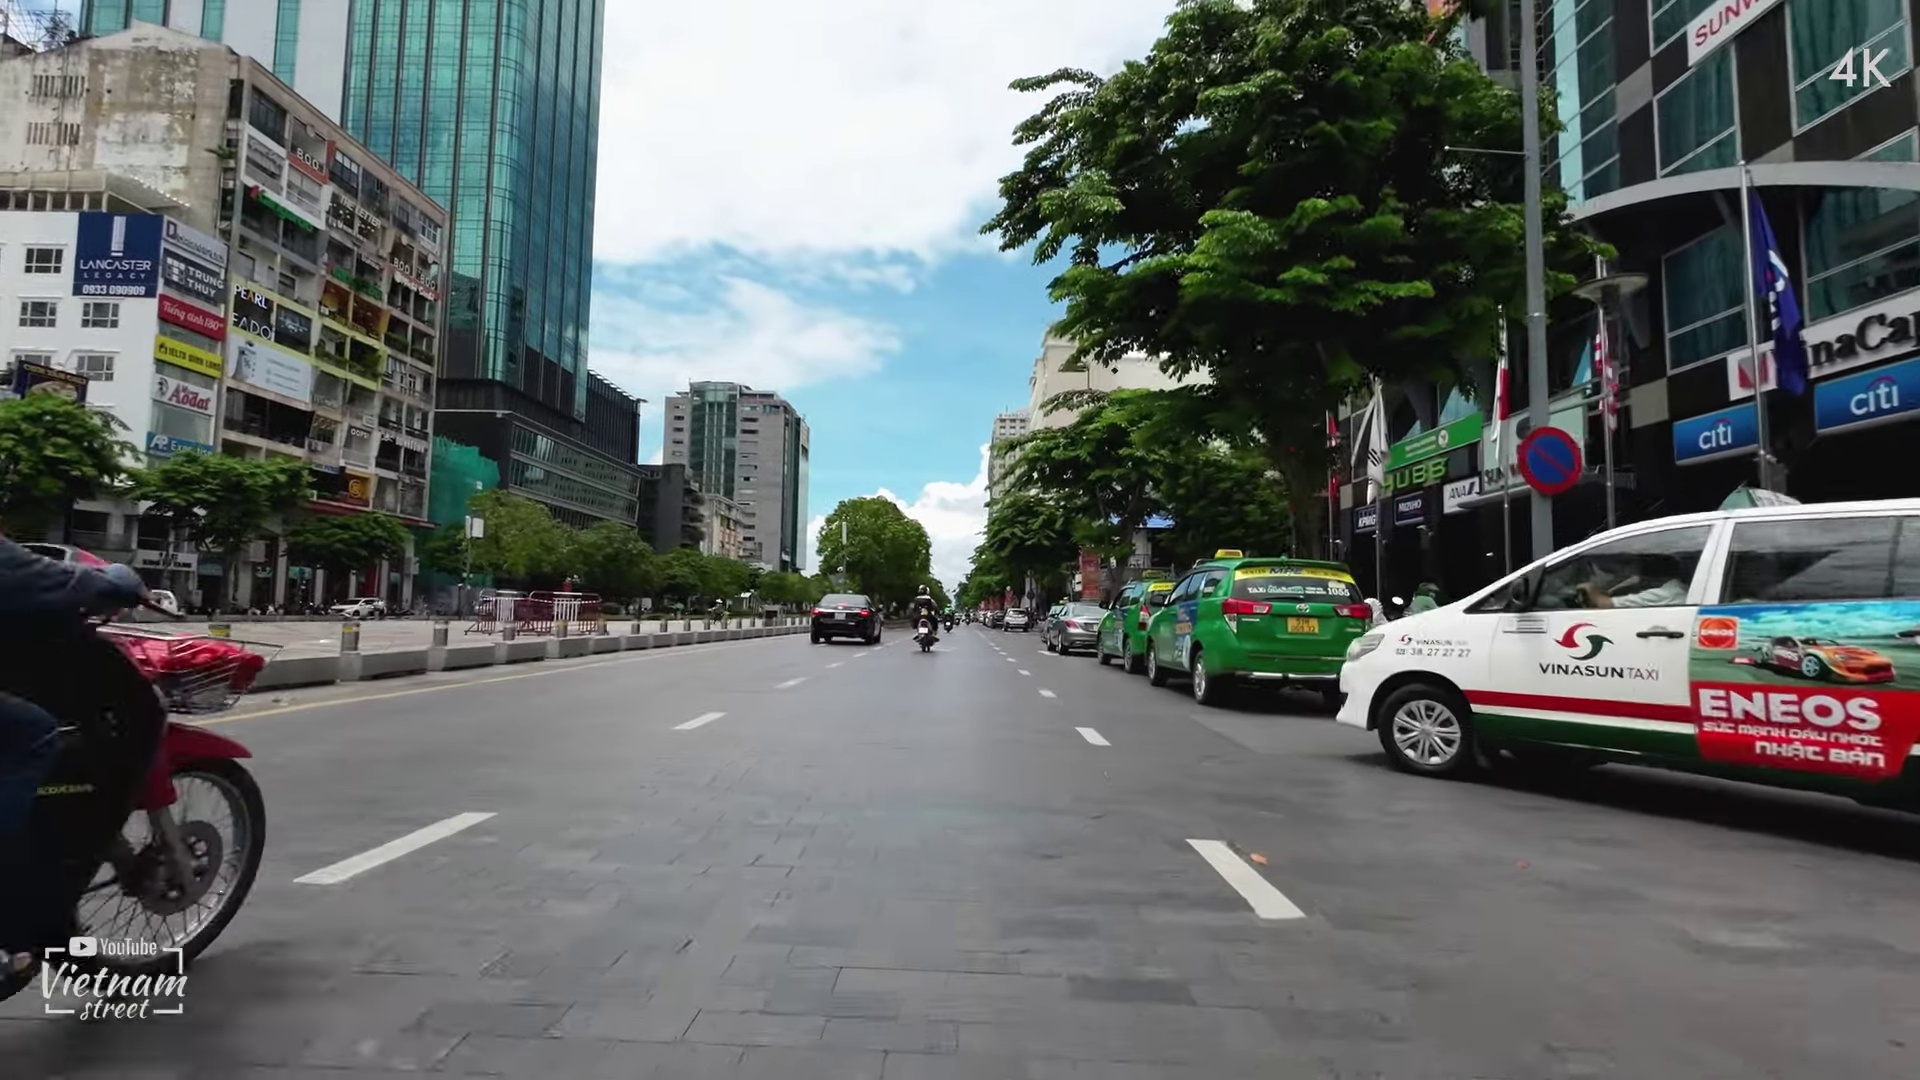cam_do_xe: (1515, 426, 1586, 498)
